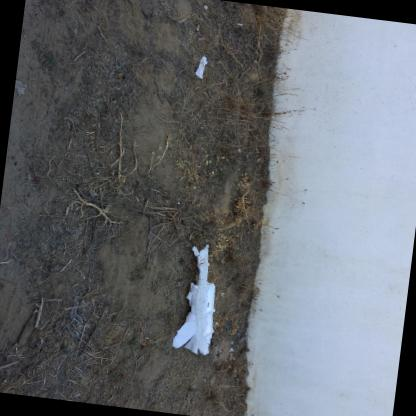Paper: (194, 24, 198, 31)
Waste: (171, 244, 214, 355), (194, 55, 206, 79)
